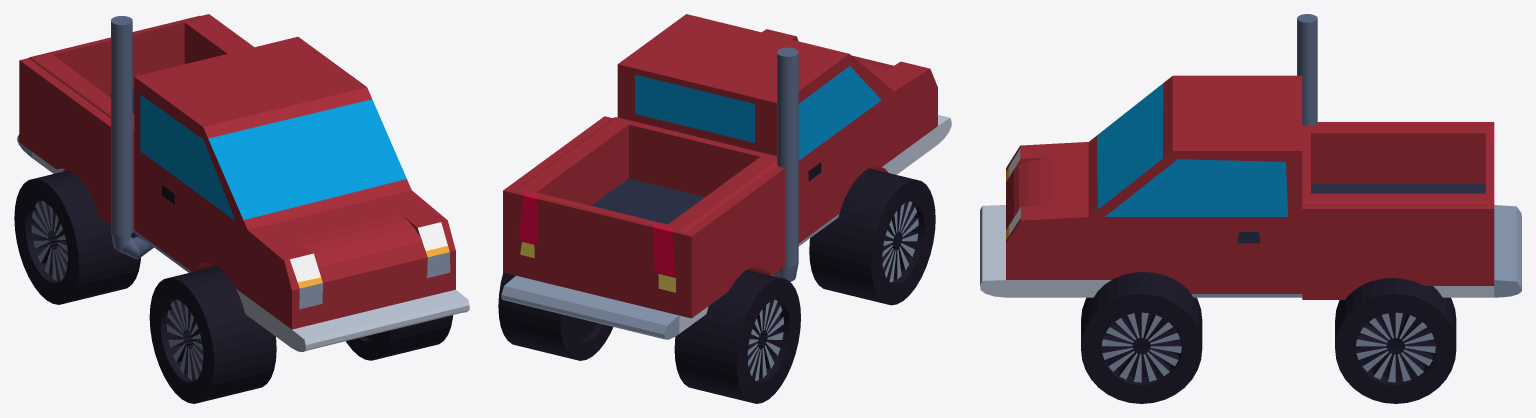
The model's file is Truck.glb.
3 renders of one model, left to right at view 1: azimuth 30°, elevation 25°; view 2: azimuth 150°, elevation 25°; view 3: azimuth 270°, elevation 25°, orthographic. The views are drawn at different scales.
Parts seen in each view (by area): view 1: Cube, WheelsFront, WheelsFront.001, Cylinder.002; view 2: Cube, WheelsFront.001, WheelsFront, Cylinder.002; view 3: Cube, WheelsFront, WheelsFront.001, Cylinder.002.
Part boxes in pixels (x1,y1,x2,y2): Cube: (17,14,469,351); WheelsFront: (149,266,452,403); WheelsFront.001: (14,170,140,304); Cylinder.002: (111,16,153,259); Cube: (501,14,951,339); WheelsFront.001: (498,270,800,403); WheelsFront: (809,168,935,305); Cylinder.002: (772,47,798,281); Cube: (980,75,1521,299); WheelsFront: (1081,272,1202,403); WheelsFront.001: (1335,278,1456,403); Cylinder.002: (1297,14,1317,125).
Size of the model in its own units: 8.28 by 10.16 by 17.28.
Materials: 1 (1 with a texture image).
